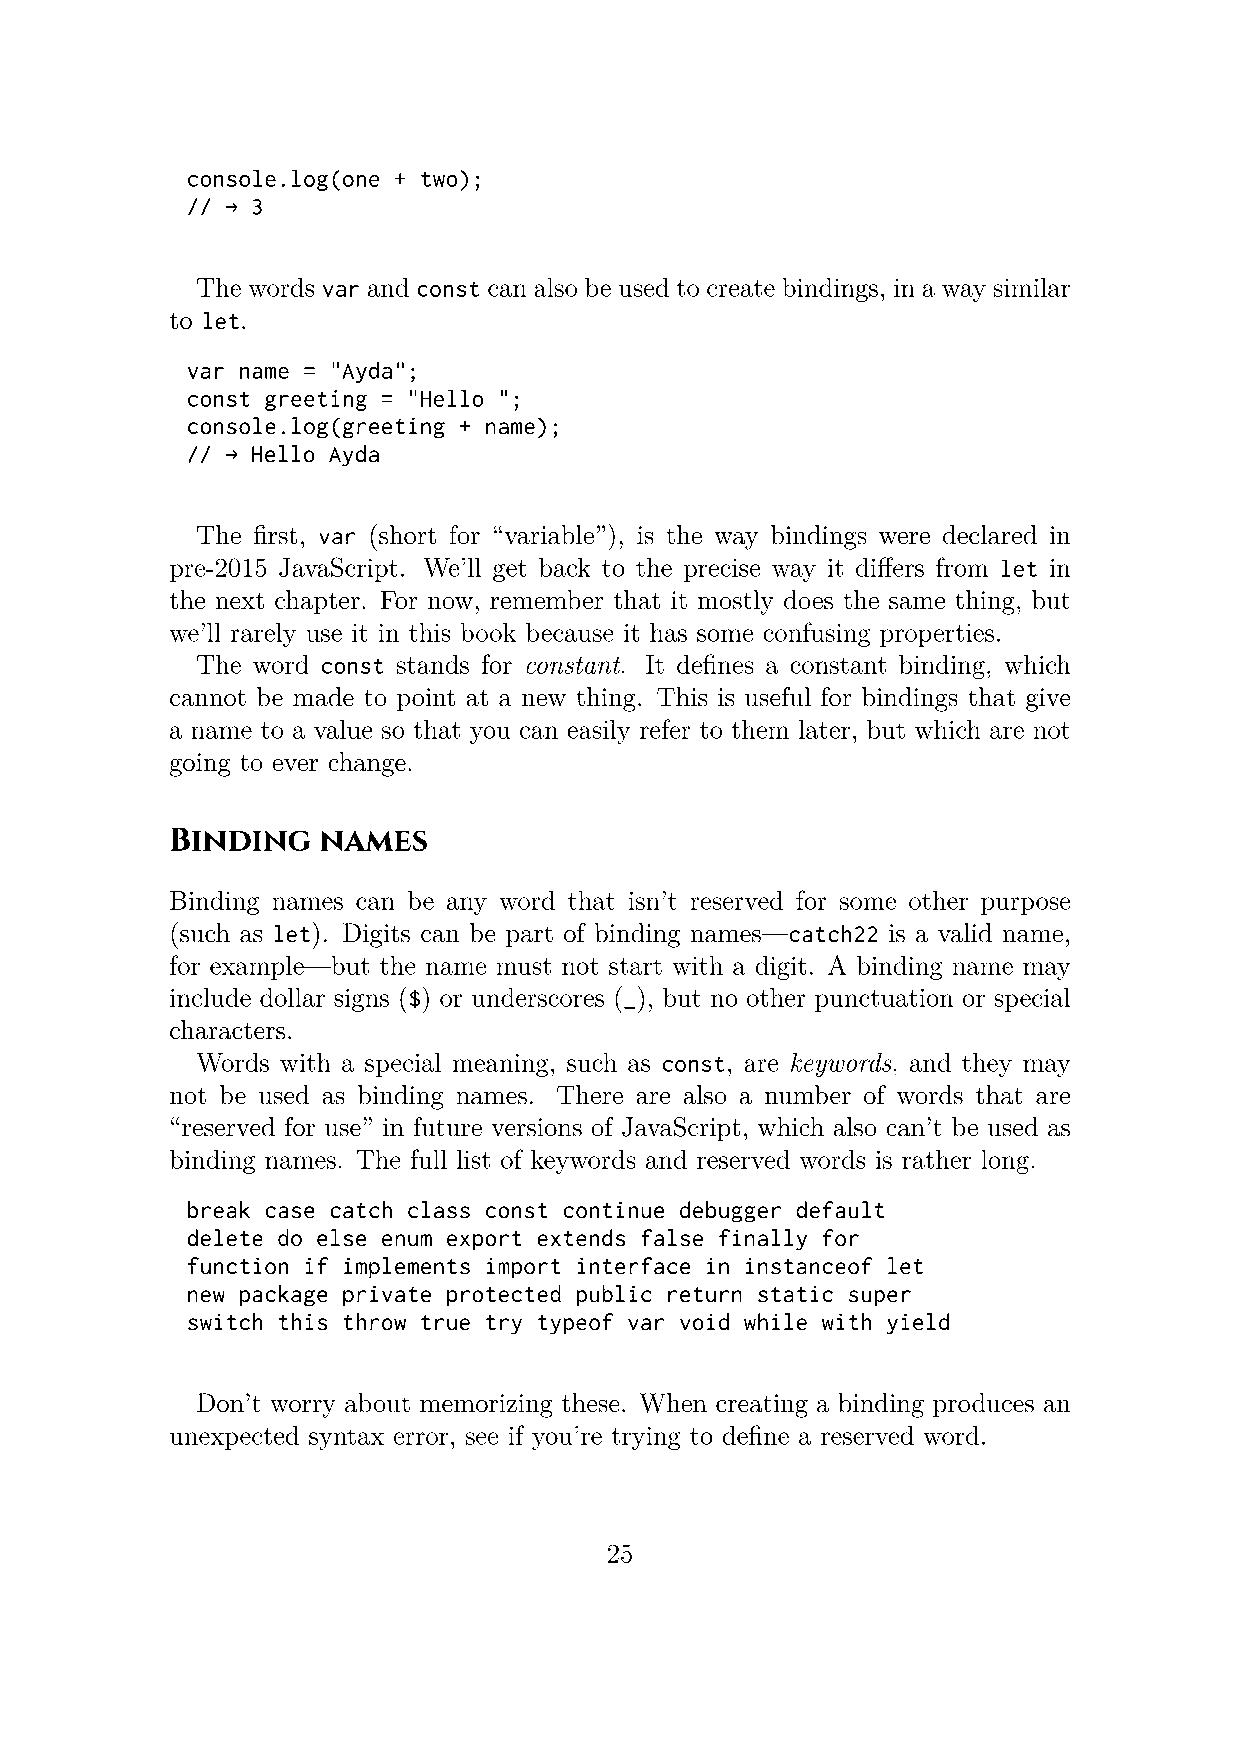chapter: (169, 815, 431, 864)
content: (162, 169, 1082, 786), (166, 876, 1075, 1456)
content_pagenumber: (595, 1531, 647, 1574)
